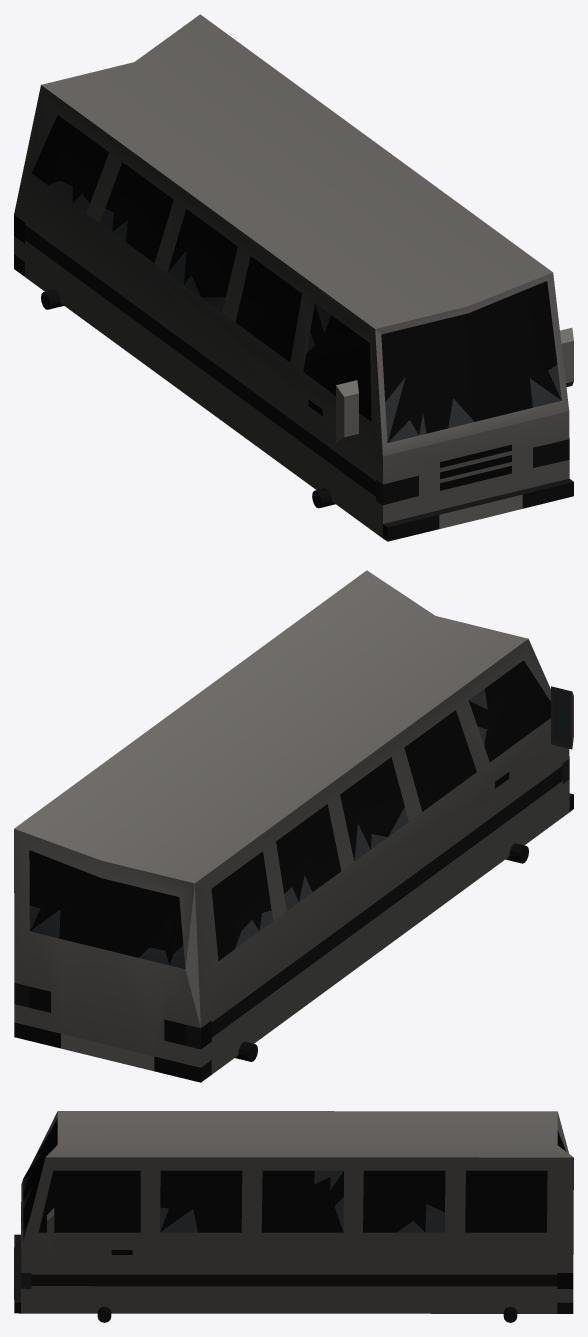
File: SA_Prop_BurntBlack_Bus_01.glb
3 views of the same model, one above another, from view 1: azimuth 30°, elevation 25°; view 2: azimuth 150°, elevation 25°; view 3: azimuth 270°, elevation 25° (orthographic). The views are drawn at different scales.
Visible parts, largest first — view 1: SA_Prop_BurntBlack_Bus_01; view 2: SA_Prop_BurntBlack_Bus_01; view 3: SA_Prop_BurntBlack_Bus_01.
Part boxes in pixels (<box>): SA_Prop_BurntBlack_Bus_01: <box>14,14,573,541</box>; SA_Prop_BurntBlack_Bus_01: <box>14,570,573,1082</box>; SA_Prop_BurntBlack_Bus_01: <box>14,1111,573,1322</box>.
Size of the model in its own units: 1.45 by 1.26 by 3.97.
1 material, 1 textured.
